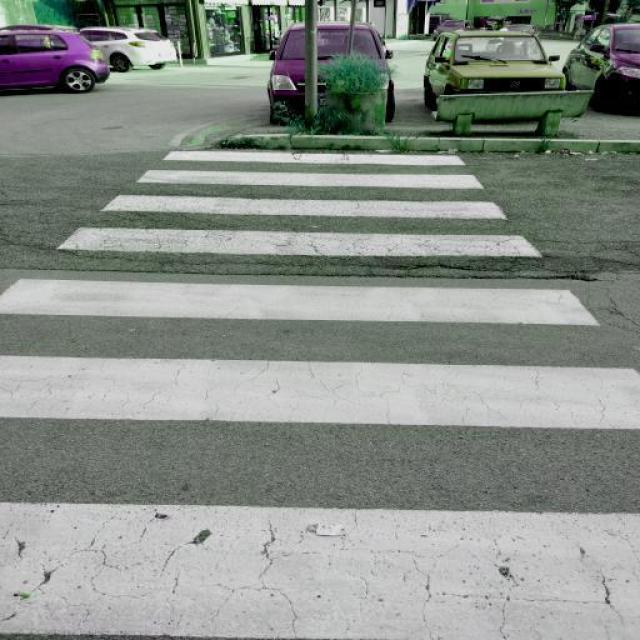intact_crosswalk: (0, 149, 640, 640)
